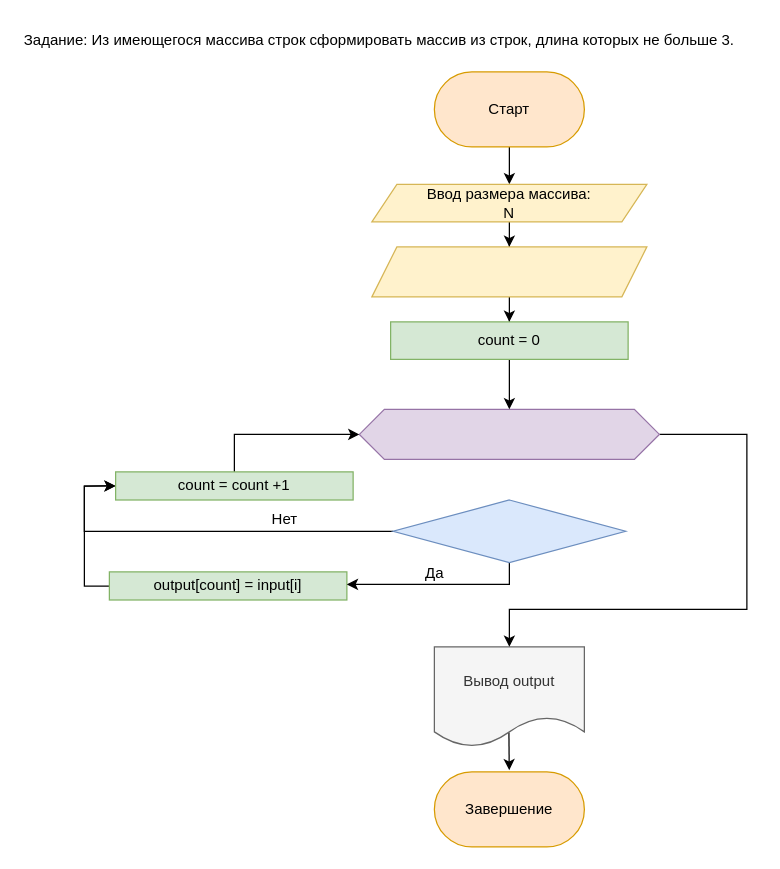
Image size: 780x869. Some labels were removed from this diagram. Each missing label, with the centre of its shape:
i = 0; N-1; 1: the point at 508,433
length(input[i]) <= 3?: the point at 509,530
Ввод исходного массива: input[0..N-1]: the point at 509,271
